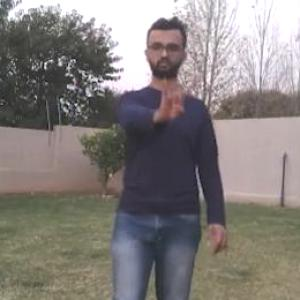takeoff-hand: (150, 70, 193, 126)
